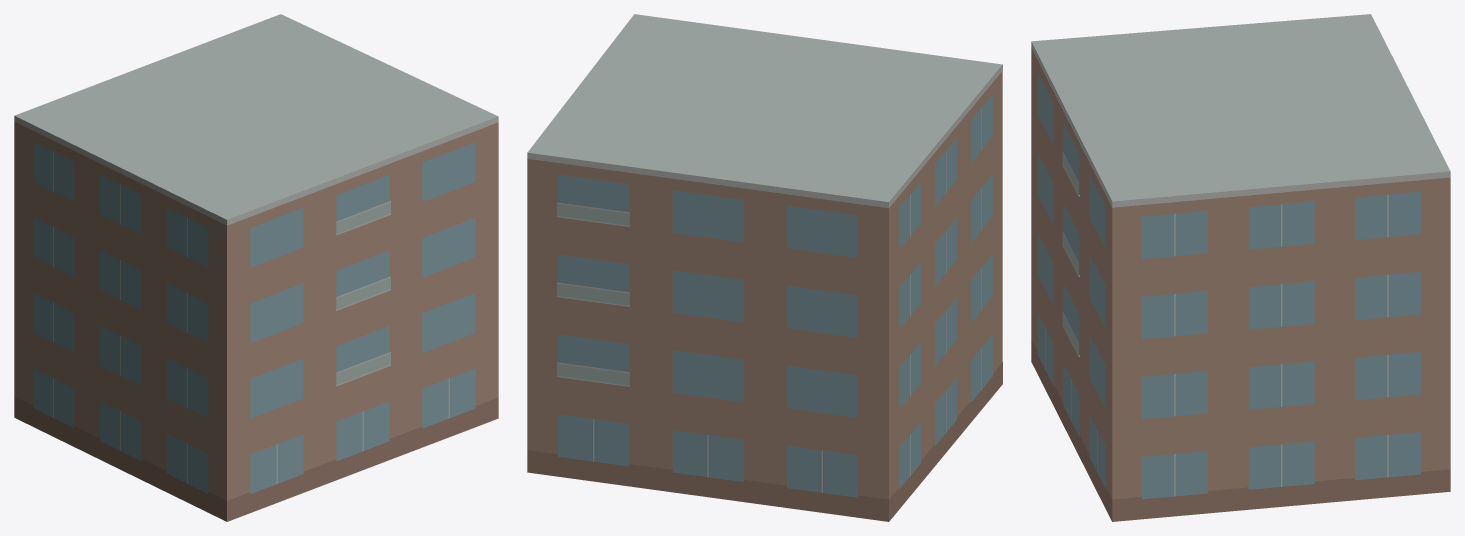
The model's file is survey-upis-32964489.glb.
3 views of the same model, side by side, from view 1: azimuth 30°, elevation 25°; view 2: azimuth 150°, elevation 25°; view 3: azimuth 270°, elevation 25° (orthographic). The views are drawn at different scales.
Parts seen in each view (by area): view 1: survey-upis-32964489.tmp; view 2: survey-upis-32964489.tmp; view 3: survey-upis-32964489.tmp.
Part boxes in pixels (x1,y1,x2,y2): survey-upis-32964489.tmp: (14, 14, 498, 521); survey-upis-32964489.tmp: (527, 14, 1002, 521); survey-upis-32964489.tmp: (1031, 14, 1450, 521).
Size of the model in its own units: 16.09 by 12.8 by 15.2.
